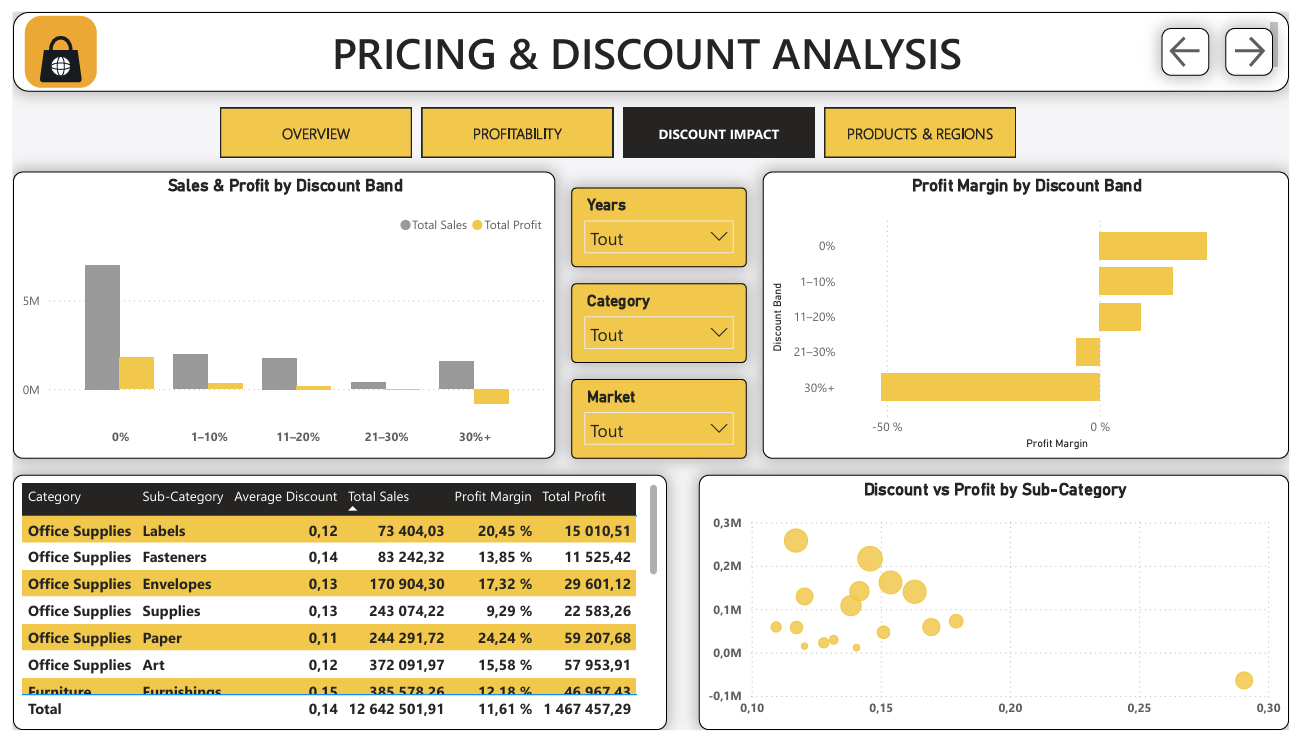

This screenshot's page, from the dashboard's own definition file:
{"tool":"powerbi","page":{"name":"DISCOUNT IMPACT","canvas":[1280,720],"ordinal":2},"visuals":[{"type":"textbox","box":[0,0,1280,80],"z":0},{"type":"clusteredColumnChart","title":"Sales & Profit by Discount Band","fields":{"Category":["Global_Superstore2.Discount Band"],"Y":["Global_Superstore2.Total Sales","Global_Superstore2.Total Profit"]},"box":[0,160,544,288],"z":4000},{"type":"clusteredBarChart","title":"Profit Margin by Discount Band","fields":{"Category":["Global_Superstore2.Discount Band"],"Y":["Global_Superstore2.Profit Margin"]},"box":[752,160,528,288],"z":5000},{"type":"scatterChart","title":"Discount vs Profit by Sub-Category","fields":{"Category":["Global_Superstore2.Sub-Category"],"Size":["Global_Superstore2.Total Sales"],"X":["Global_Superstore2.Average Discount"],"Y":["Global_Superstore2.Total Profit"]},"box":[688,464,592,256],"z":6000},{"type":"tableEx","fields":{"Values":["Global_Superstore2.Category","Global_Superstore2.Sub-Category","Global_Superstore2.Average Discount","Global_Superstore2.Total Sales","Global_Superstore2.Profit Margin","Global_Superstore2.Total Profit"]},"box":[0,464,656,256],"z":7000},{"type":"pageNavigator","box":[208,96,800,50],"z":8000},{"type":"slicer","fields":{"Values":["Global_Superstore2.Market"]},"box":[560,368,176,80],"z":9000},{"type":"slicer","fields":{"Values":["Global_Superstore2.Category"]},"box":[560,272,176,80],"z":10000},{"type":"slicer","fields":{"Values":["Global_Superstore2.Order Date.Variation.Hiérarchie de dates.Année"]},"box":[560,176,176,80],"z":11000},{"type":"image","box":[0,0,96,80],"z":12000},{"type":"actionButton","box":[1216,16,48,48],"z":12001},{"type":"actionButton","box":[1152,16,48,48],"z":12002}]}

Visuals, with their boxes in screenshot pixels (x1, y1, x2, y2), scaled from the page's 1280x720 canvas onto the 1301x741 screenshot:
textbox: [0, 0, 1300, 82]
"Sales & Profit by Discount Band" clusteredColumnChart: [0, 165, 553, 461]
"Profit Margin by Discount Band" clusteredBarChart: [764, 165, 1300, 461]
"Discount vs Profit by Sub-Category" scatterChart: [699, 478, 1300, 740]
tableEx - Global_Superstore2.Category x Global_Superstore2.Sub-Category: [0, 478, 667, 740]
pageNavigator: [211, 99, 1025, 150]
slicer - Global_Superstore2.Market: [569, 379, 748, 461]
slicer - Global_Superstore2.Category: [569, 280, 748, 362]
slicer - Global_Superstore2.Order Date.Variation.Hiérarchie de dates.Année: [569, 181, 748, 263]
image: [0, 0, 98, 82]
actionButton: [1236, 16, 1285, 66]
actionButton: [1171, 16, 1220, 66]
